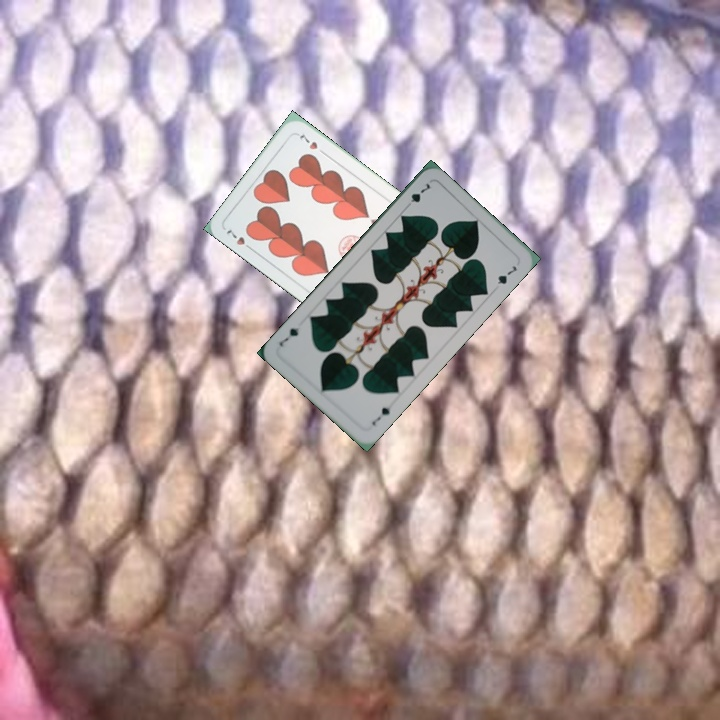G7: (401, 179, 432, 211), (368, 403, 393, 428)
H7: (222, 226, 257, 254)
